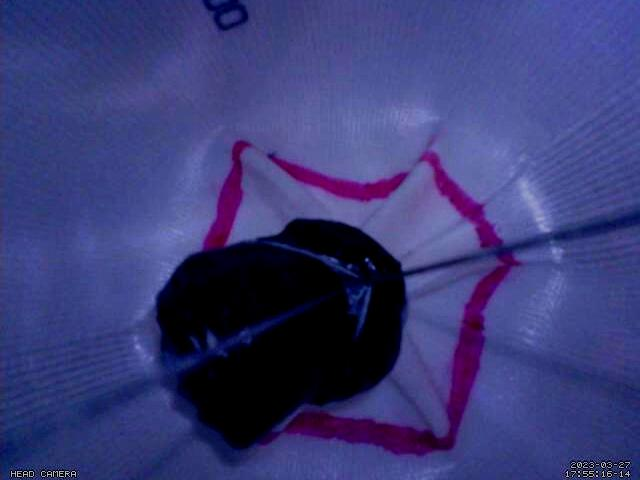red-circle: (202, 140, 520, 456)
